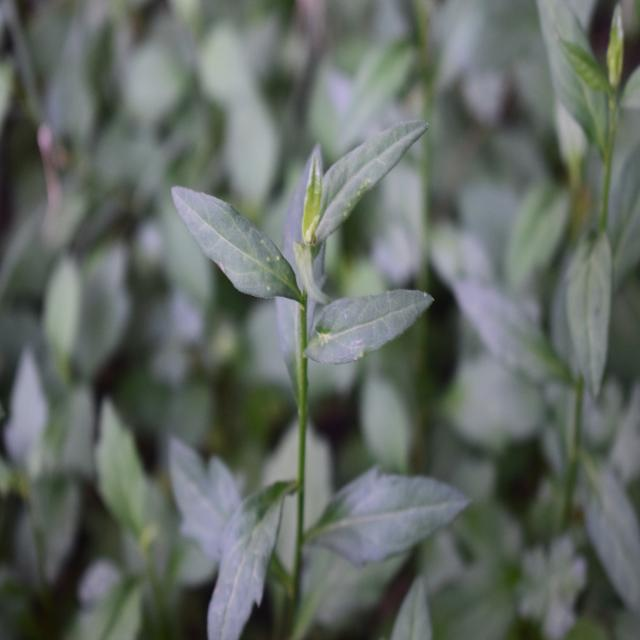Indian aster: (155, 147, 447, 640)
